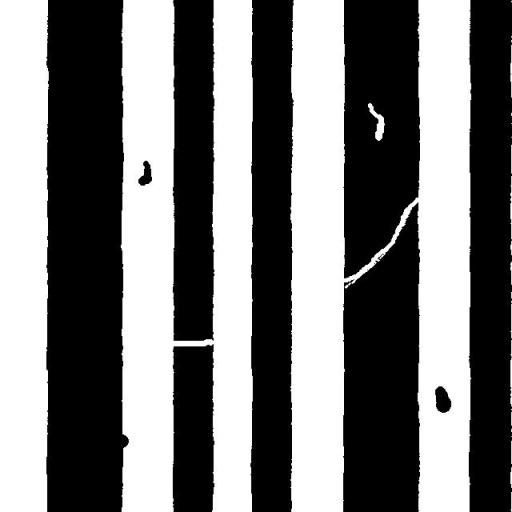copper: (428, 378, 458, 420), (130, 153, 160, 193)
open: (329, 189, 429, 296), (164, 331, 221, 354)
pin-hole: (360, 95, 392, 148)
spur: (107, 426, 136, 456)
